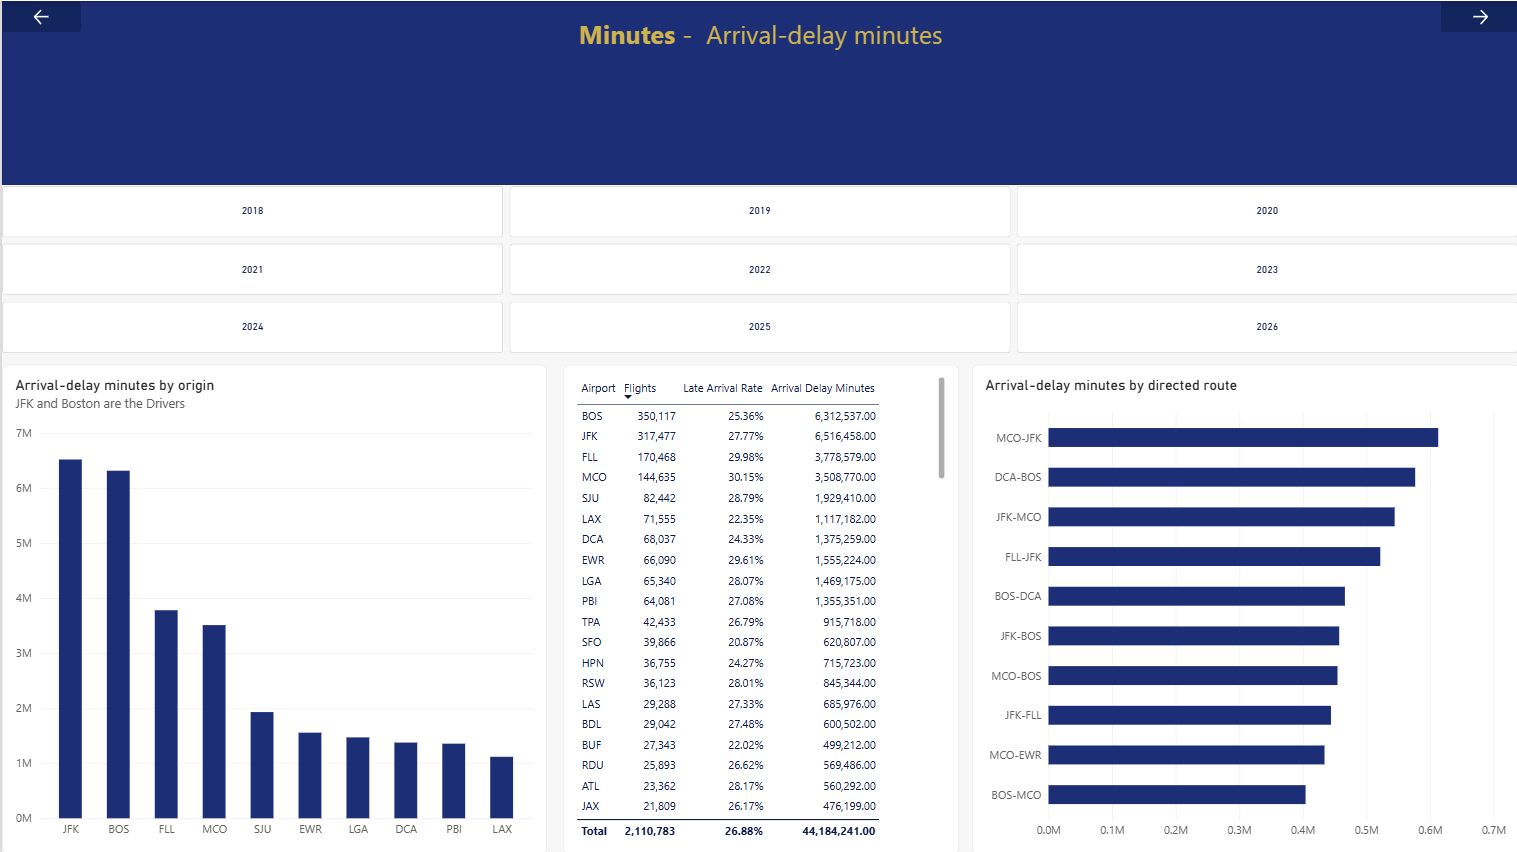

This screenshot's page, from the dashboard's own definition file:
{"tool":"powerbi","page":{"name":"Minutes","canvas":[1920,1080],"ordinal":2},"visuals":[{"type":"columnChart","title":"Arrival-delay minutes by origin","fields":{"Category":["Dim_Origin.Airport"],"Y":["Fact_Flight.Arrival Delay Minutes"]},"box":[0,459.7,689.6,619.1],"z":0},{"type":"tableEx","fields":{"Values":["Dim_Origin.Airport","Fact_Flight.Flights","Fact_Flight.Late Arrival Rate","Fact_Flight.Arrival Delay Minutes"]},"box":[709.9,459.7,500.5,619.1],"z":1000},{"type":"clusteredBarChart","title":"Arrival-delay minutes by directed route","fields":{"Category":["Dim_Route.Route_Key"],"Y":["Fact_Flight.Arrival Delay Minutes"]},"box":[1227.1,459.7,693.3,621],"z":2000},{"type":"advancedSlicerVisual","fields":{"Values":["Dim_Month.Month_Start.Variation.Date Hierarchy.Year"]},"box":[0,233.6,1920.4,211.3],"z":3000},{"type":"shape","box":[0,0,1920.4,232.6],"z":4000},{"type":"textbox","box":[0,20.6,1920.4,181.1],"z":5000},{"type":"actionButton","box":[0,0,100,40],"z":6000},{"type":"actionButton","box":[1820.9,0,100,40],"z":7000}]}

Visuals, with their boxes in screenshot pixels (x1, y1, x2, y2), scaled from the page's 1920x1080 canvas onto the 1517x852 screenshot:
"Arrival-delay minutes by origin" columnChart: <box>0,363,545,851</box>
tableEx - Dim_Origin.Airport x Fact_Flight.Flights: <box>561,363,956,851</box>
"Arrival-delay minutes by directed route" clusteredBarChart: <box>970,363,1516,851</box>
advancedSlicerVisual - Dim_Month.Month_Start.Variation.Date Hierarchy.Year: <box>0,184,1516,351</box>
shape: <box>0,0,1516,183</box>
textbox: <box>0,16,1516,159</box>
actionButton: <box>0,0,79,32</box>
actionButton: <box>1439,0,1516,32</box>
